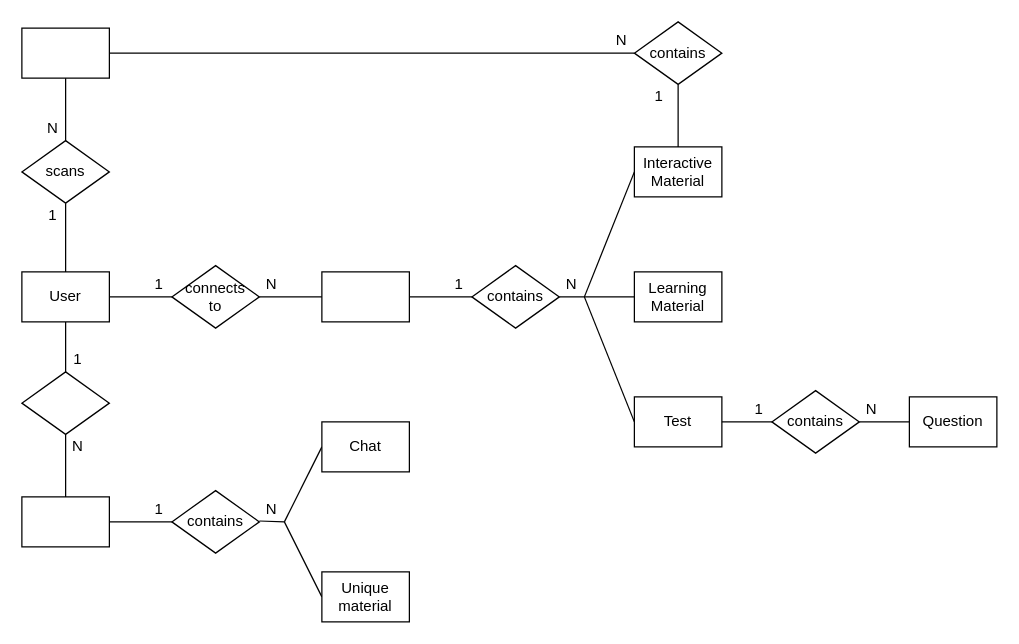
The diagram is 1019 pixels wide and 644 high, and some of its shapes have lost their labels. Each missing label, with the centre of its shape:
"Group" belongs at (x=65, y=521).
"joins to" belongs at (x=65, y=402).
"Material" belongs at (x=365, y=296).
"Object" belongs at (x=65, y=52).
